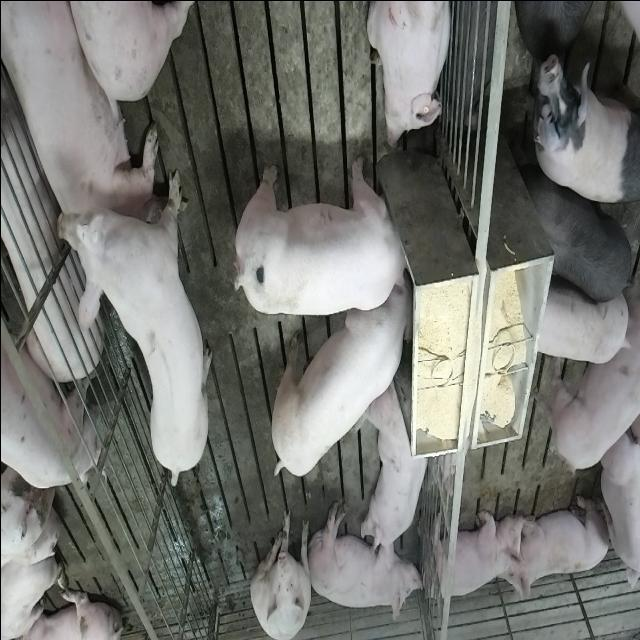Feeding: (264, 272, 412, 480), (227, 156, 409, 318)
Lateral_lying: (306, 498, 424, 624)
Sitting: (250, 506, 312, 638)
Standing: (54, 158, 212, 482), (546, 275, 640, 478), (0, 292, 98, 484), (518, 162, 638, 303), (530, 54, 634, 204), (532, 282, 630, 364)
Sternal_lying: (0, 5, 151, 266), (365, 0, 453, 150), (364, 381, 433, 568), (510, 491, 612, 600), (422, 502, 524, 603)
